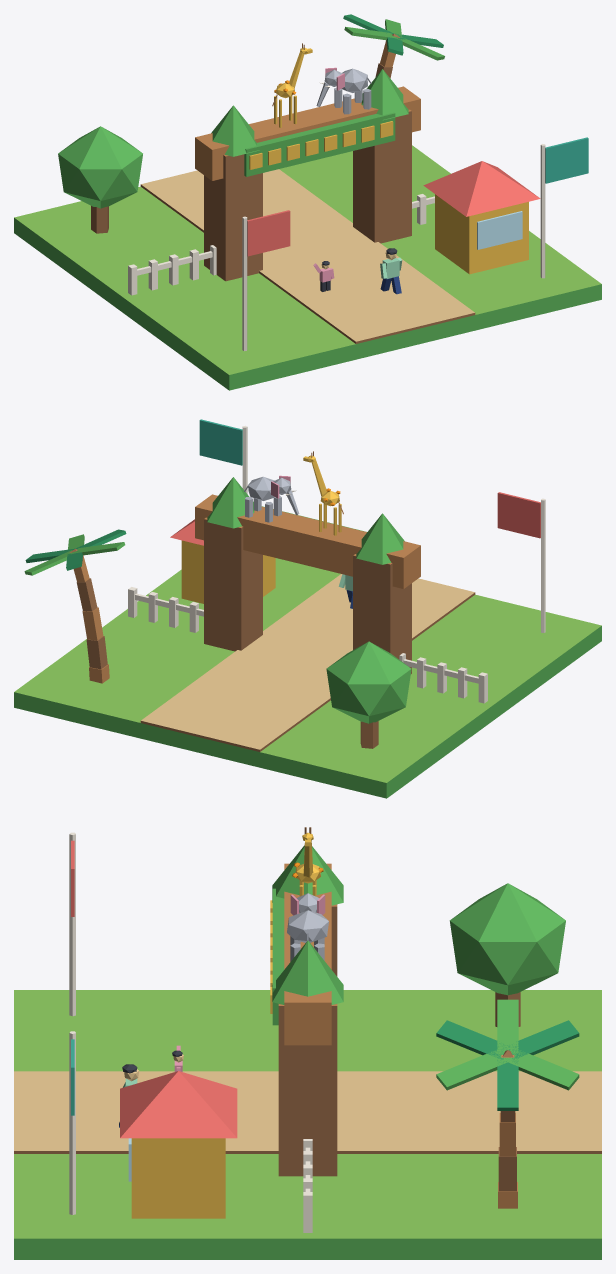
The model's file is zoo_gate.glb.
3 renders of one model, top to bottom at view 1: azimuth 30°, elevation 25°; view 2: azimuth 150°, elevation 25°; view 3: azimuth 270°, elevation 25°, orthographic. The views are drawn at different scales.
Visible parts, largest first — view 1: zoo_gate; view 2: zoo_gate; view 3: zoo_gate.
Boxes of the visible parts, x1,y1,x2,y2 form: zoo_gate: [14, 14, 601, 390]; zoo_gate: [14, 419, 601, 798]; zoo_gate: [14, 827, 601, 1259].
Size of the model in its own units: 1.05 by 0.5735 by 1.
